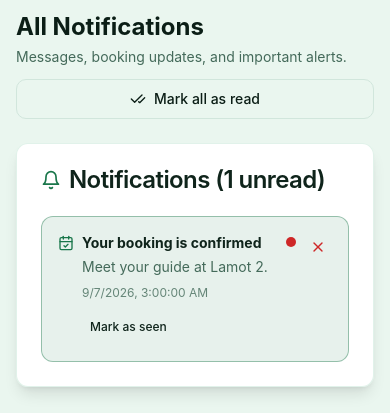
Test case: notification listener lifecycle › marks and removes the actual Firestore notification, not only local placeholders
The width and height of the screenshot is (390, 413).
Check: the text "Your booking is confirmed" is shown, box [82, 233, 278, 253]
Click the button "Mark as seen" at coordinates (128, 327), box [82, 309, 175, 345]
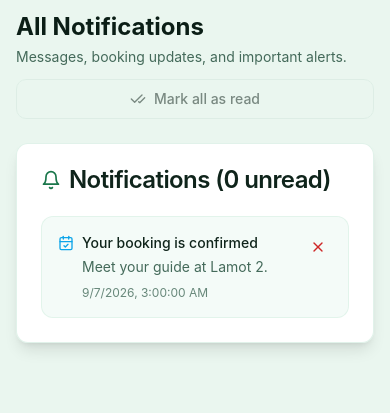
Click the button titled "Delete notification" at coordinates (318, 247), box [304, 233, 332, 261]
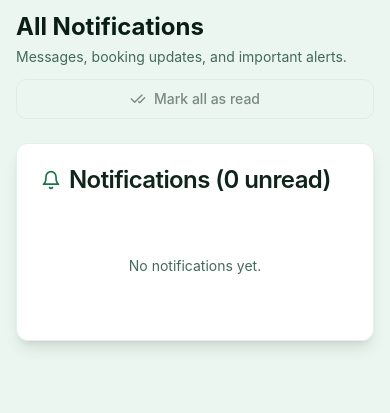
Check: the text "Your booking is confirmed" is gone
